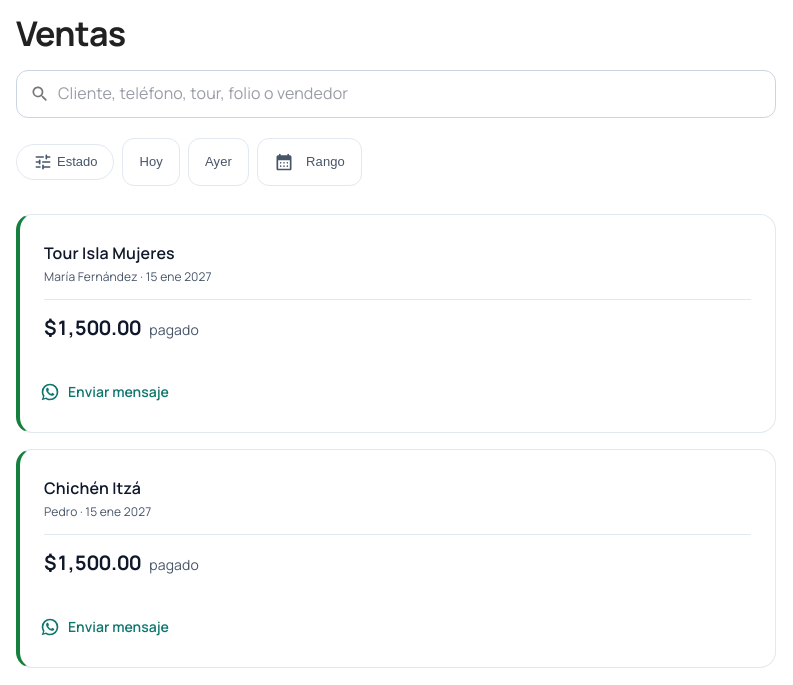
Test: US-AG58 — seller: the list behaves the same › search filters locally, over the service name
The width and height of the screenshot is (793, 685).
Expected: the heading "Tour Isla Mujeres" is shown, [44,242,175,264]
Type "isla" into the field named "Buscar ventas" at (417, 94), box [58,70,776,118]
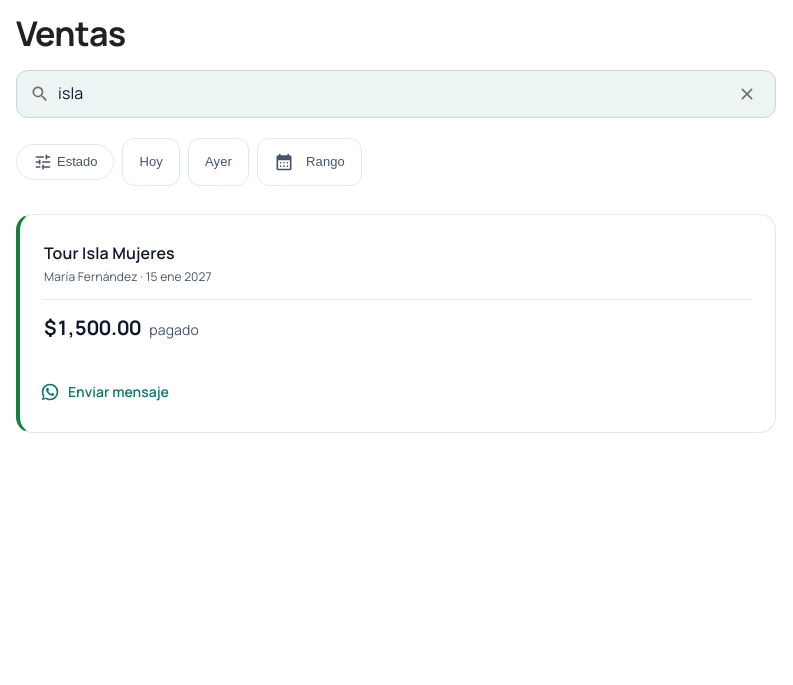
Expected: the heading "Tour Isla Mujeres" is shown, [44,242,175,264]
Result: the link "Chichén Itzá" is gone
